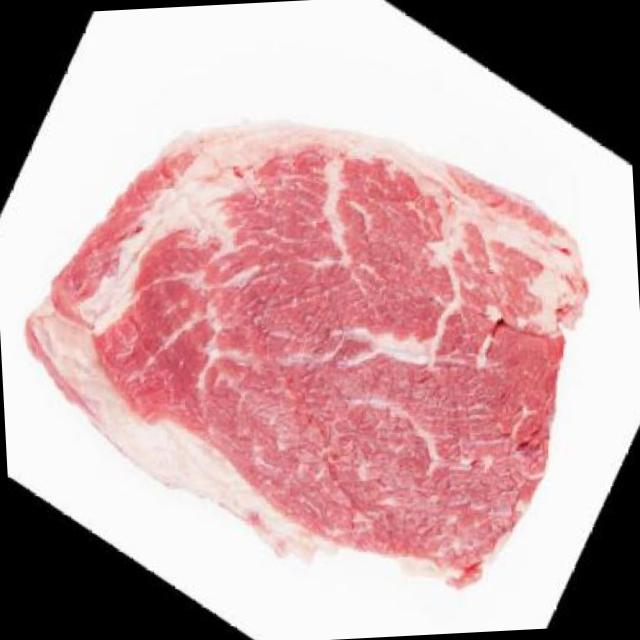beaf: (0, 97, 608, 614)
